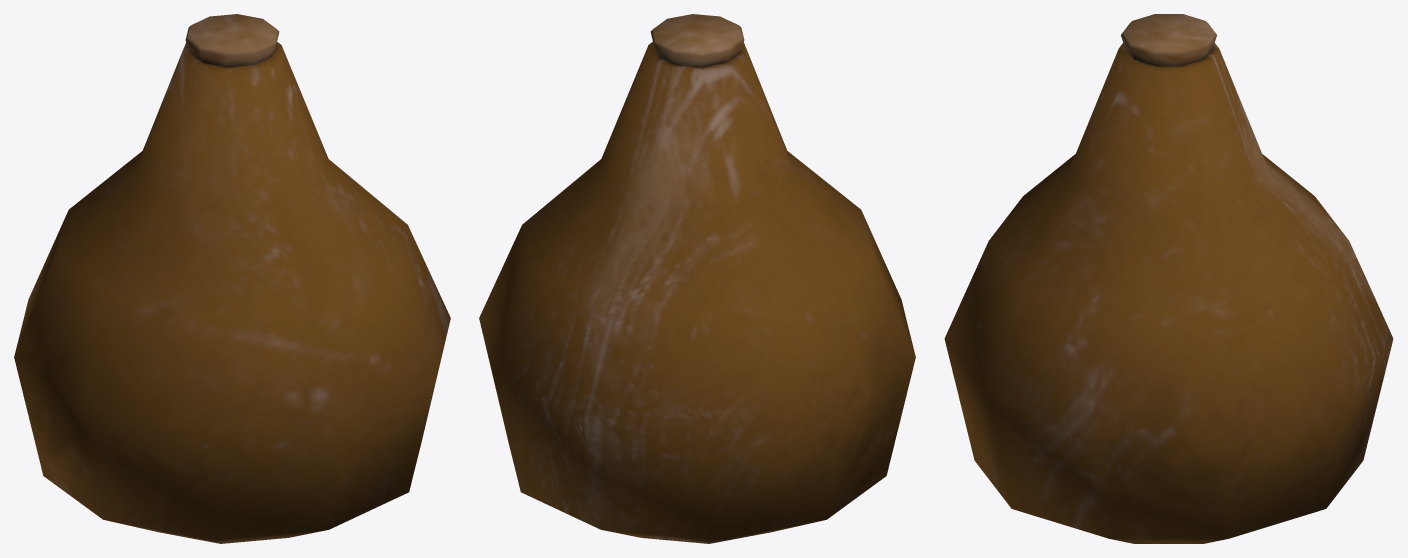
Rendered from Pot 1.fbx.
3 views of the same model, side by side, from view 1: azimuth 30°, elevation 25°; view 2: azimuth 150°, elevation 25°; view 3: azimuth 270°, elevation 25° (orthographic).
Parts seen in each view (by area): view 1: Pot 1; view 2: Pot 1; view 3: Pot 1.
Boxes of the visible parts, x1=… form: Pot 1: x1=14, y1=14, x2=450, y2=543; Pot 1: x1=479, y1=14, x2=915, y2=543; Pot 1: x1=944, y1=14, x2=1393, y2=543.
Size of the model in its own units: 0.4333 by 0.5222 by 0.4555.
